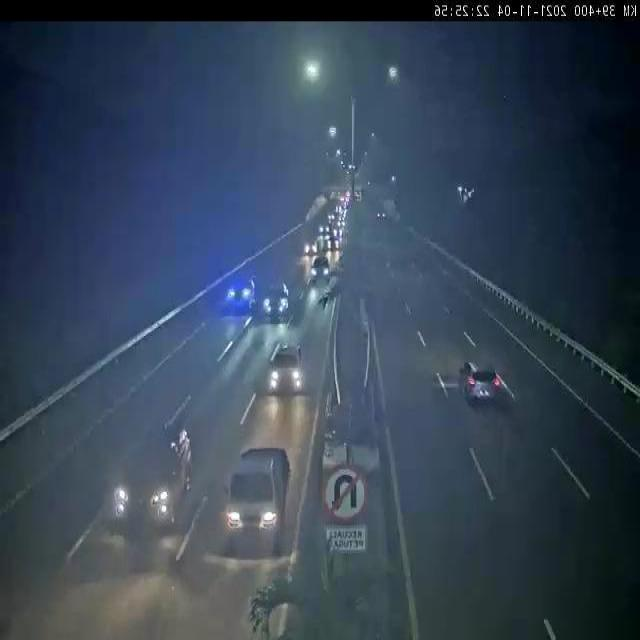Car: (459, 359, 501, 408), (261, 284, 292, 318), (308, 258, 331, 286)
Truck: (108, 423, 190, 529), (220, 447, 290, 558)
Van: (266, 342, 308, 396)
